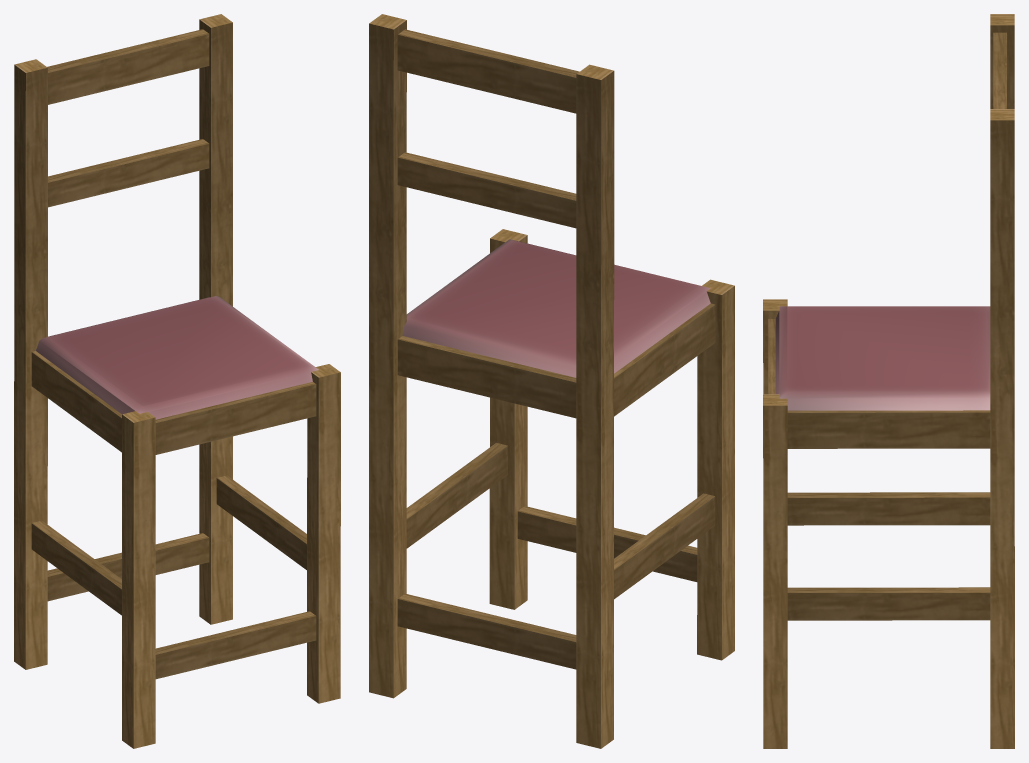
The model's file is chair15.fbx.
3 views of the same model, side by side, from view 1: azimuth 30°, elevation 25°; view 2: azimuth 150°, elevation 25°; view 3: azimuth 270°, elevation 25° (orthographic). The views are drawn at different scales.
Visible parts, largest first — view 1: chair15; view 2: chair15; view 3: chair15.
Boxes of the visible parts, x1,y1,x2,y2 form: chair15: [14, 14, 340, 748]; chair15: [369, 14, 734, 748]; chair15: [763, 14, 1014, 748].
Bounding box in the file's own units: 0.4376 × 1.21 × 0.4374.
